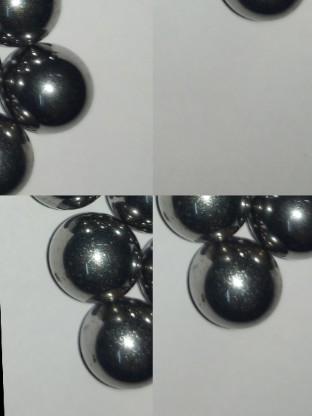ironball: (185, 234, 285, 330), (0, 41, 96, 130), (49, 211, 137, 306), (71, 297, 150, 392), (155, 195, 246, 243), (247, 195, 309, 256), (0, 130, 51, 196), (0, 0, 56, 38), (220, 0, 304, 21), (109, 194, 150, 226)
